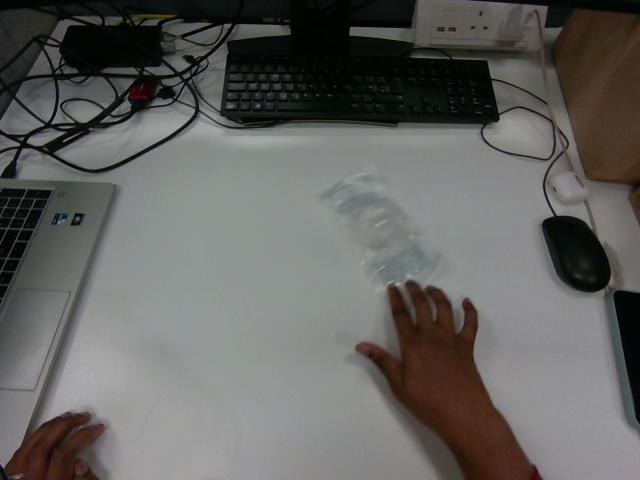gallipot: (320, 168, 437, 285)
